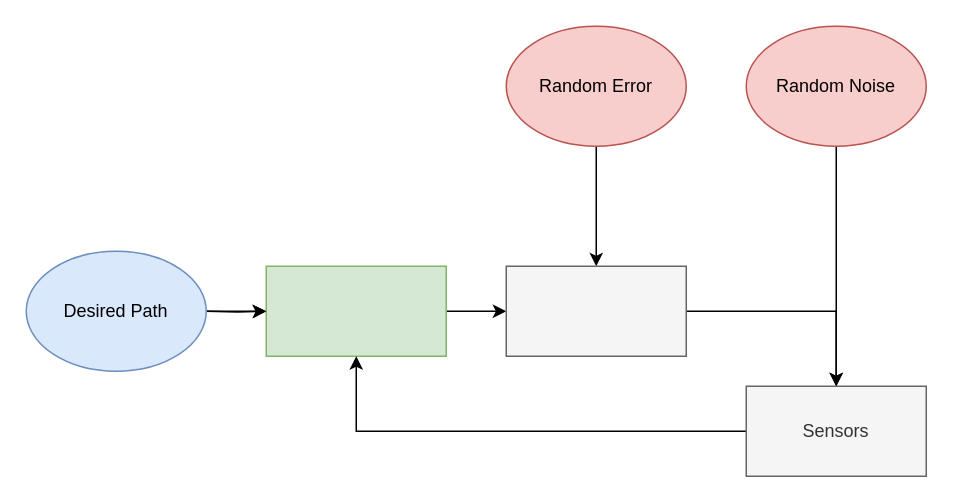
Some shapes in this 953 by 503 pixel diagram are drawn without their labels. The shapes that lost their labels are listed below. From the top down, each one's centre as x and y in pixels, then its label:
At (355,310): "Controller".
At (595,310): "Printer".
